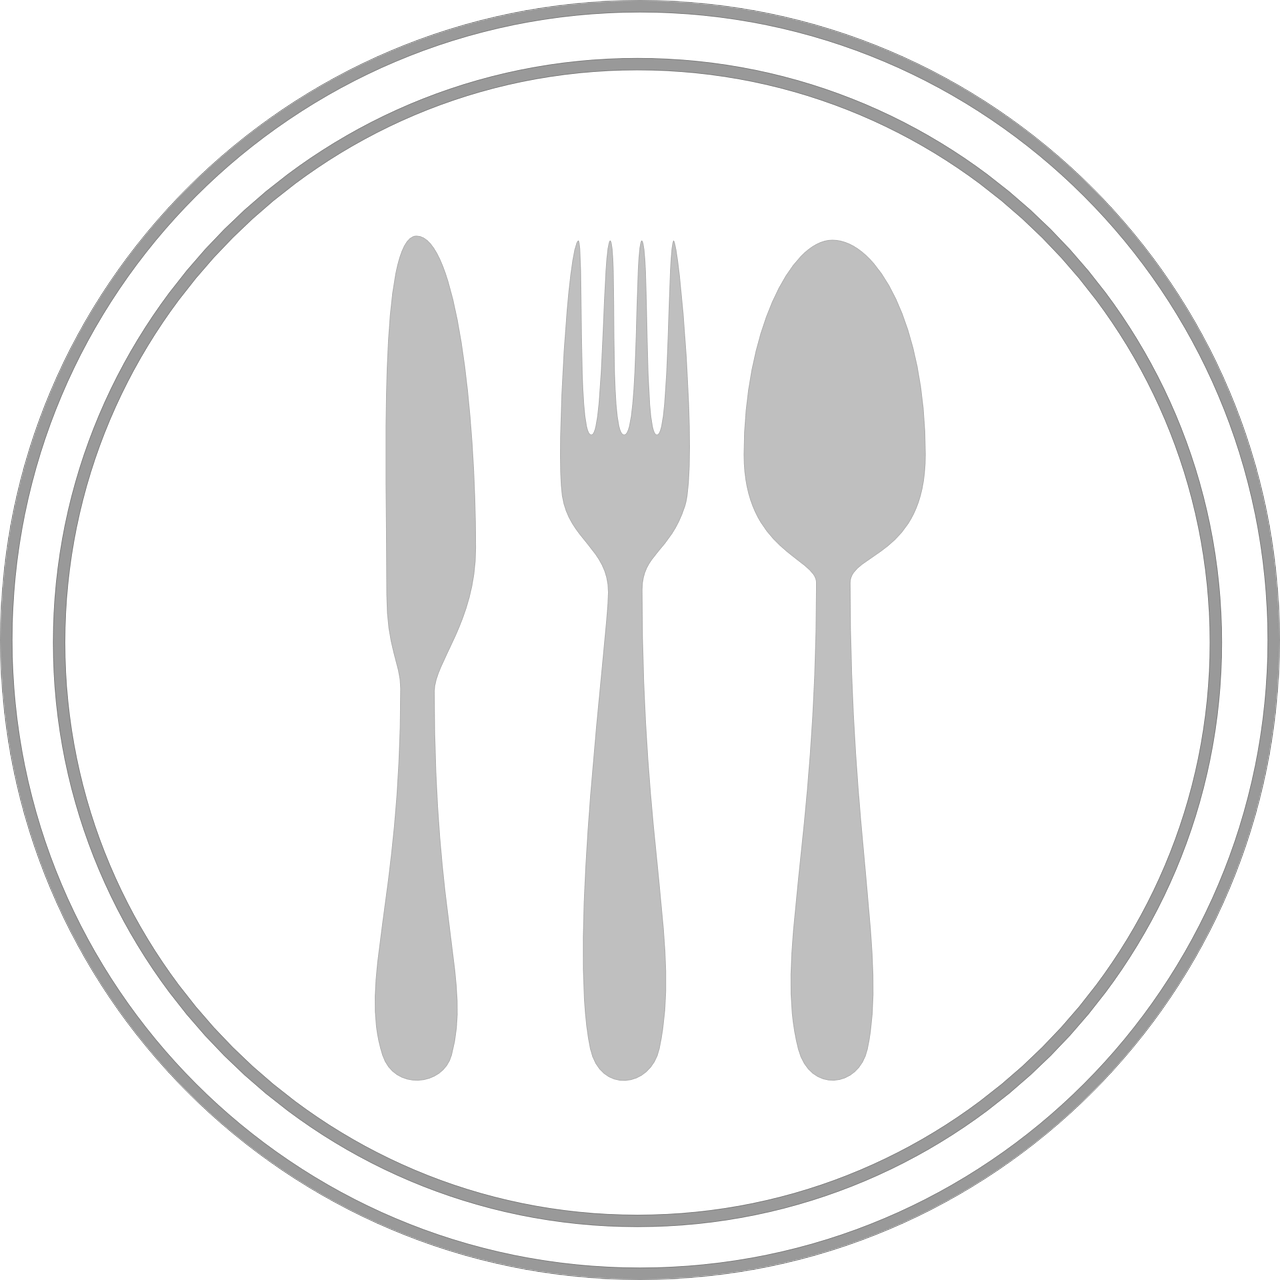knife: (366, 232, 483, 1087)
